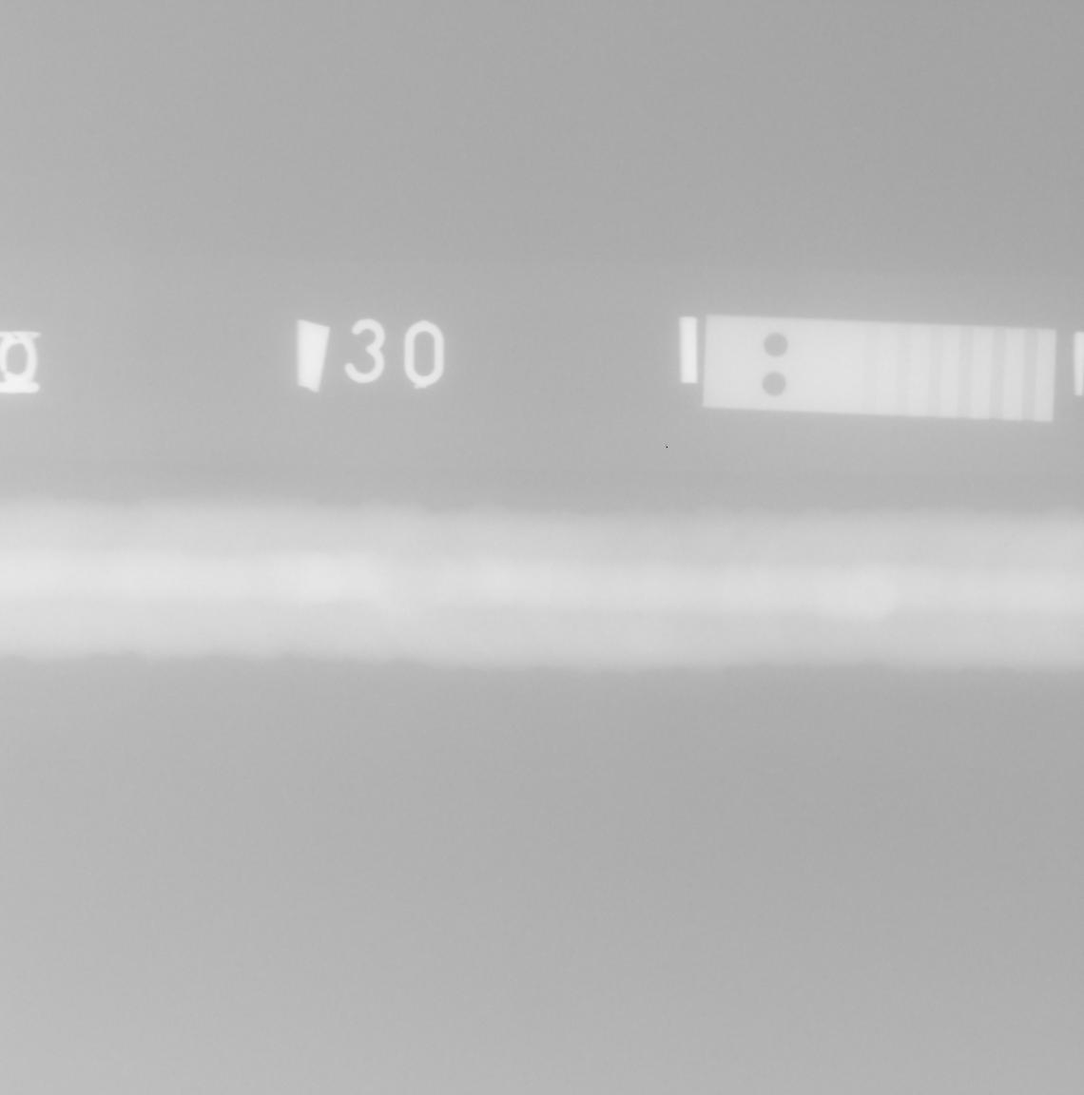Pore/Porosity: (267, 632, 272, 638)
Reference Standard 2: (703, 314, 1057, 422)
